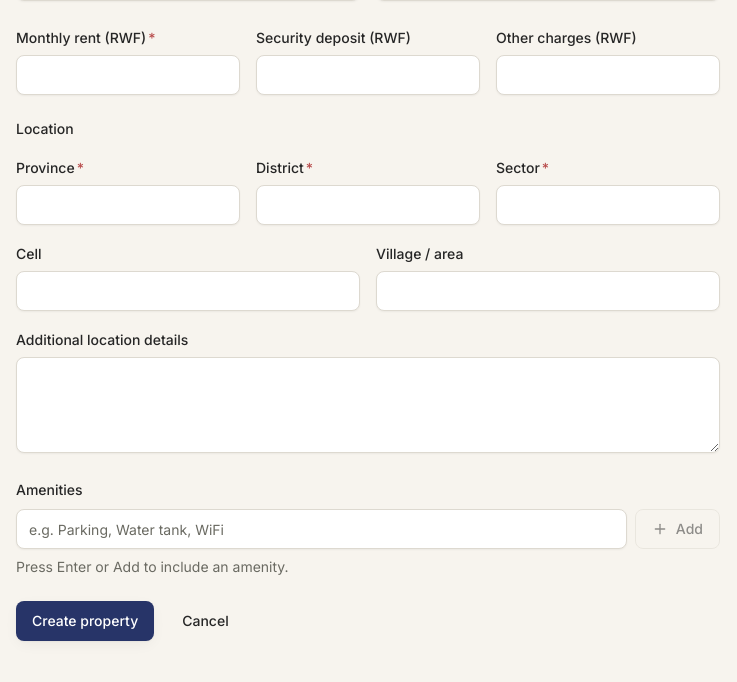
Test: create property › validates required fields before submitting
This screenshot has width=737, height=682.
(page scrolled)
Click the button "Create property" at x=85, y=621, box [16,601,154,641]
(page scrolled)
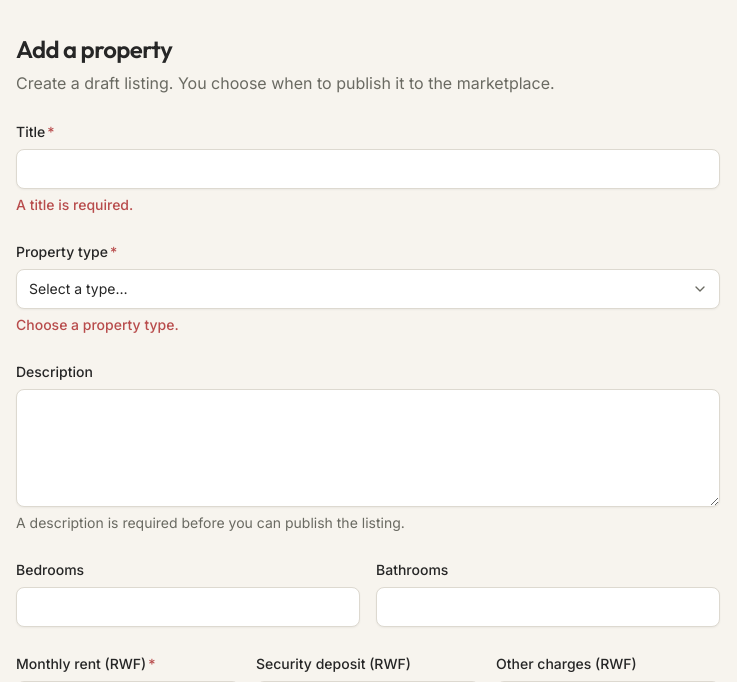
Check: the text "A title is required." is shown, box [16,196,133,213]
